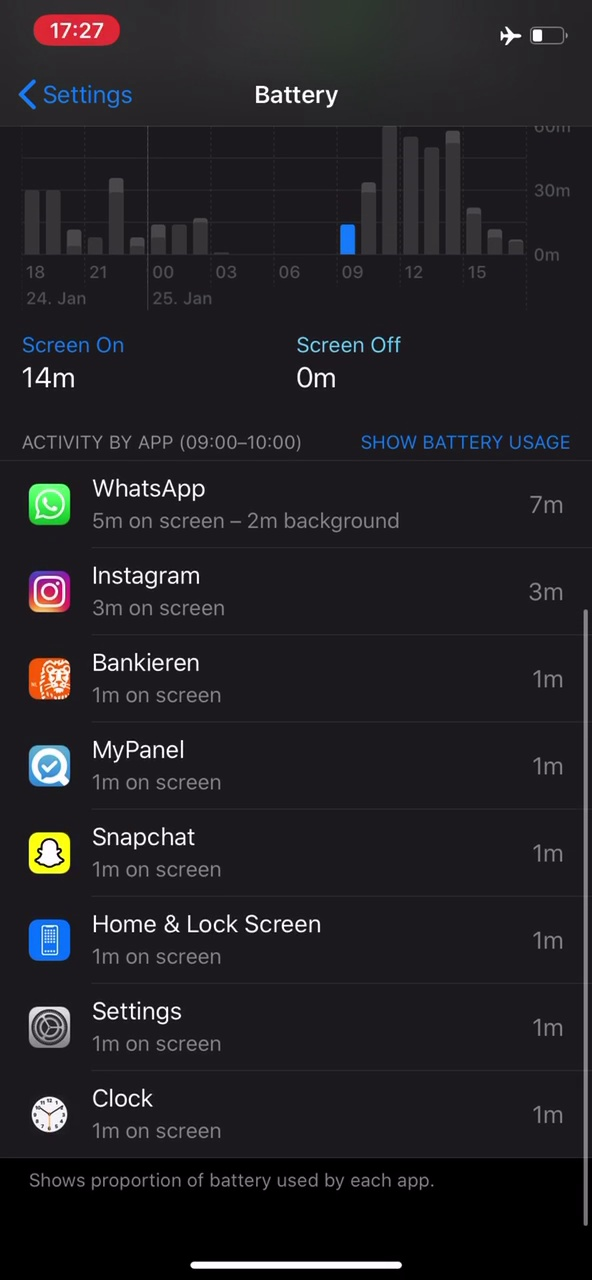activity: (14, 417, 309, 469)
app: (19, 728, 570, 797), (20, 817, 571, 886), (23, 908, 574, 977), (19, 994, 570, 1063), (20, 1078, 571, 1147), (18, 478, 573, 541), (19, 555, 574, 618), (23, 649, 578, 712)
